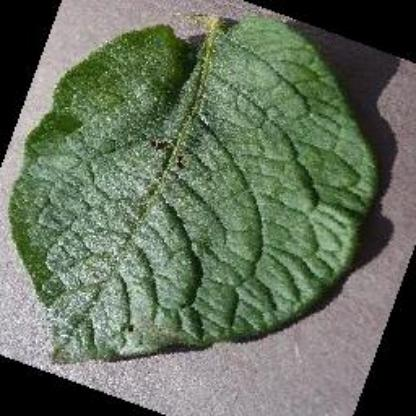Healthy-plant: (10, 13, 396, 381), (6, 6, 336, 370)
